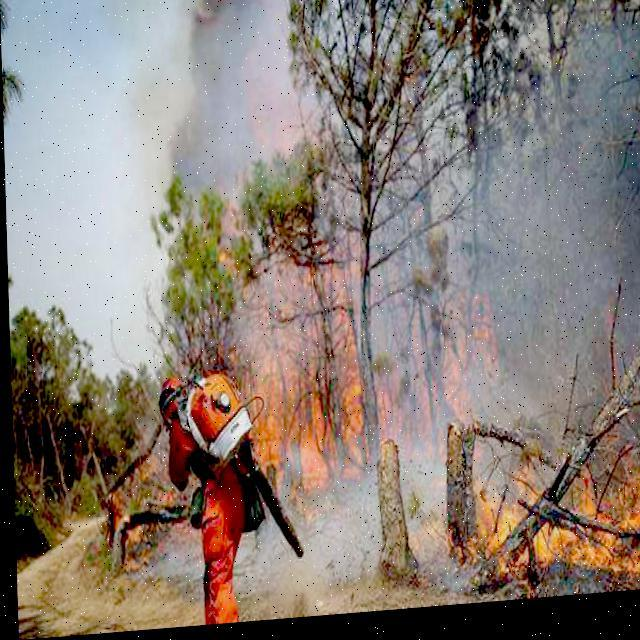Fire: (205, 73, 501, 497), (439, 466, 639, 596), (108, 450, 204, 570)
